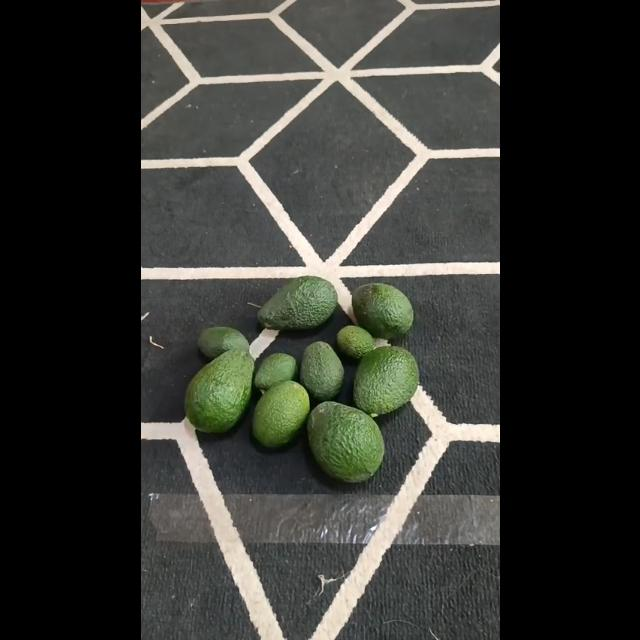Primera: (184, 348, 254, 434), (306, 402, 382, 481), (352, 346, 420, 416), (257, 276, 337, 330), (351, 282, 413, 340)
Segunda: (250, 379, 308, 446), (300, 342, 344, 402)
Tercera: (197, 324, 250, 360), (254, 352, 296, 392), (335, 324, 375, 358)
